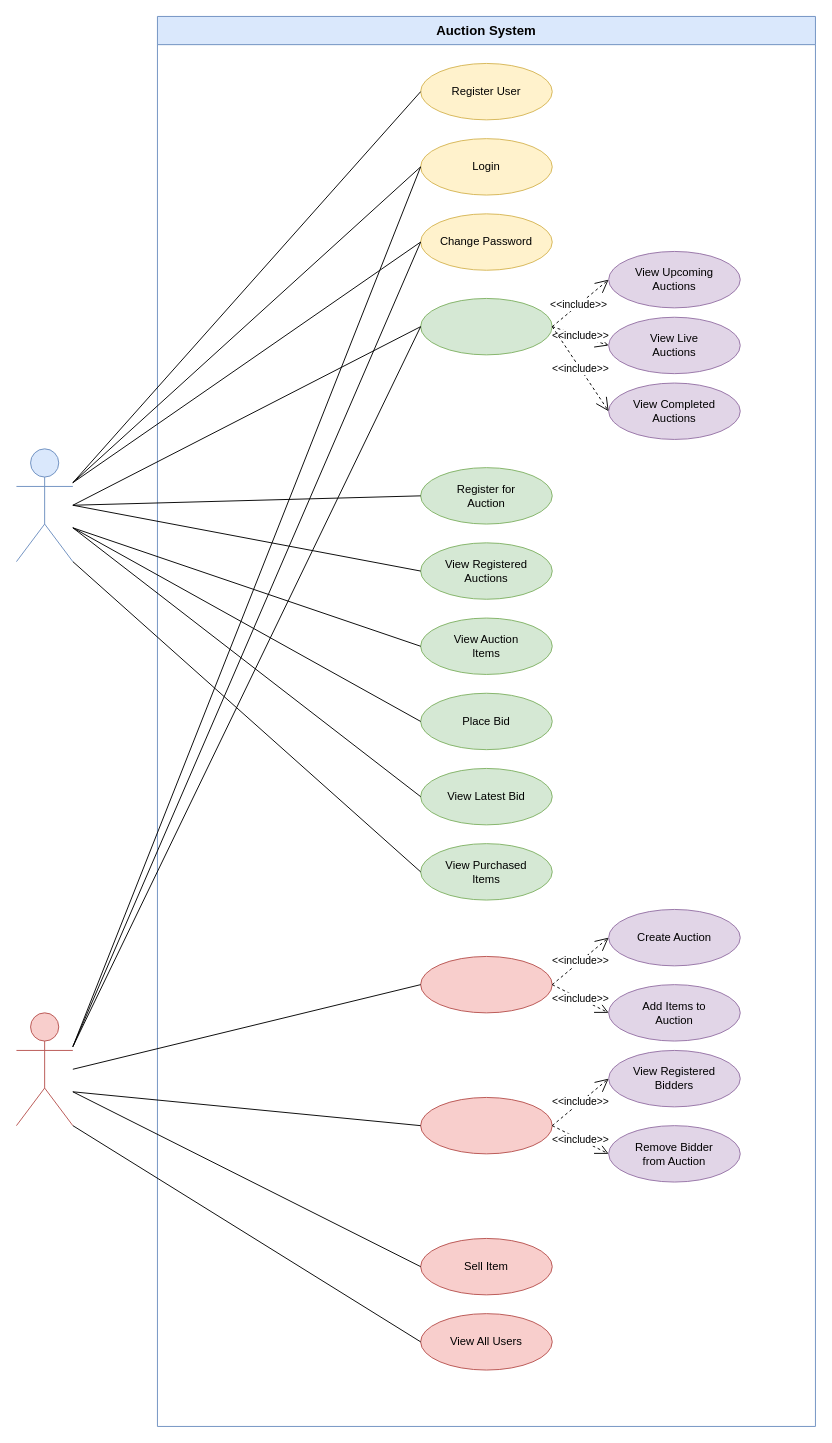
Some shapes in this 832 by 1443 pixel diagram are drawn without their labels. The centre of each missing label's shape, as x and y in pixels:
"Admin" goes at pixel 44 1069.
"Bidder" goes at pixel 44 505.
"Manage Auction" goes at pixel 486 984.
"Manage Bidders" goes at pixel 486 1125.
"View Auctions" goes at pixel 486 326.
